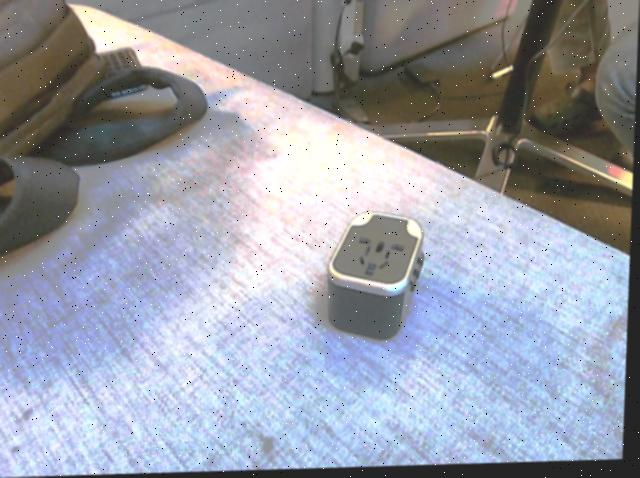adapter: (327, 211, 429, 345)
